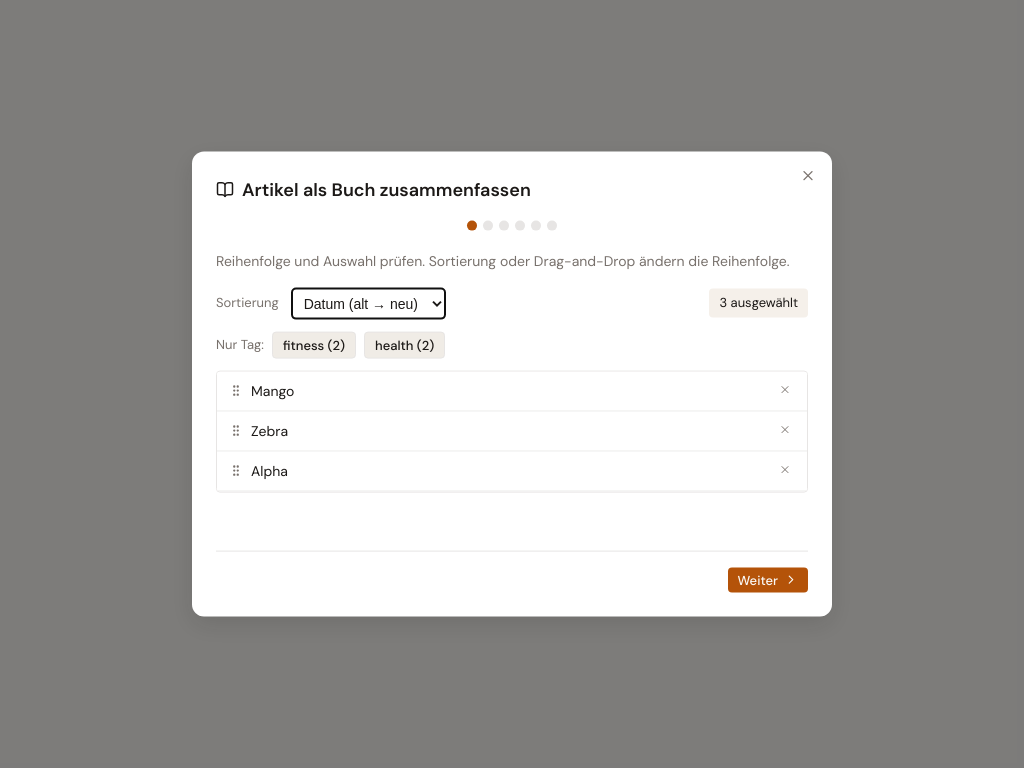
it: ConvertToBookWizard Add-to-Authors-DB (Bug 8 Phase 2) › checkbox visible (and checked) when typed name is new
Click the button with test id "convert-to-book-wizard-step-0-next" at (768, 580), box left=728, top=567, right=808, bottom=592
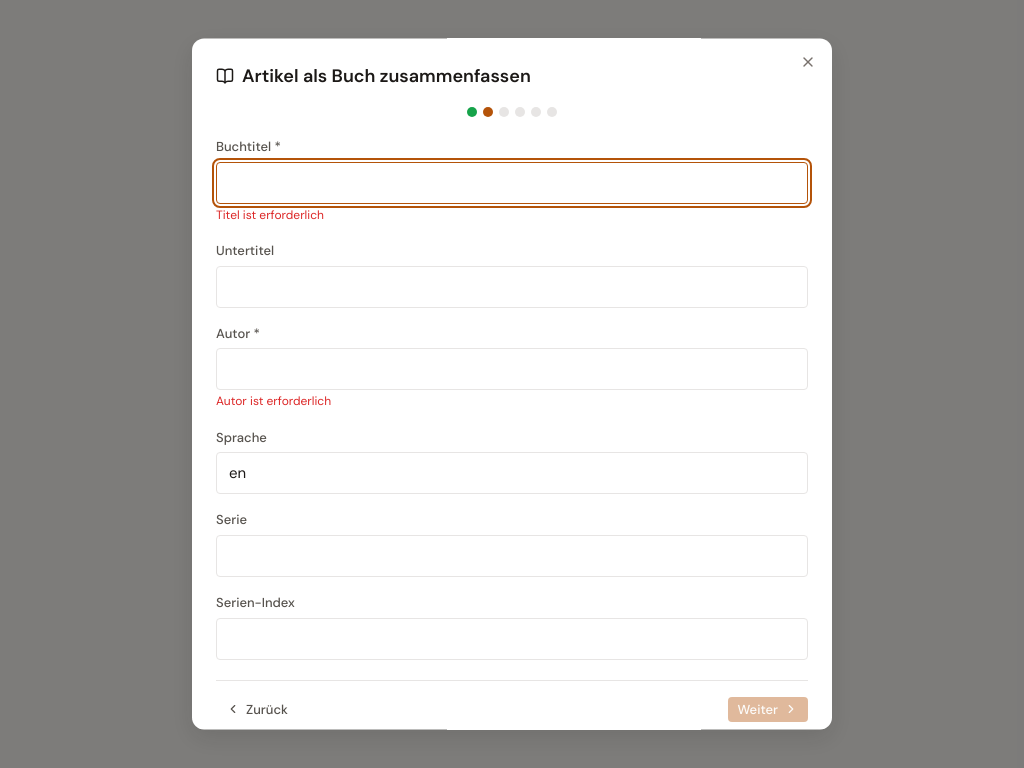
Type "Brand New Person" into the field with test id "convert-to-book-wizard-metadata-author" at (512, 370), box left=216, top=349, right=808, bottom=391
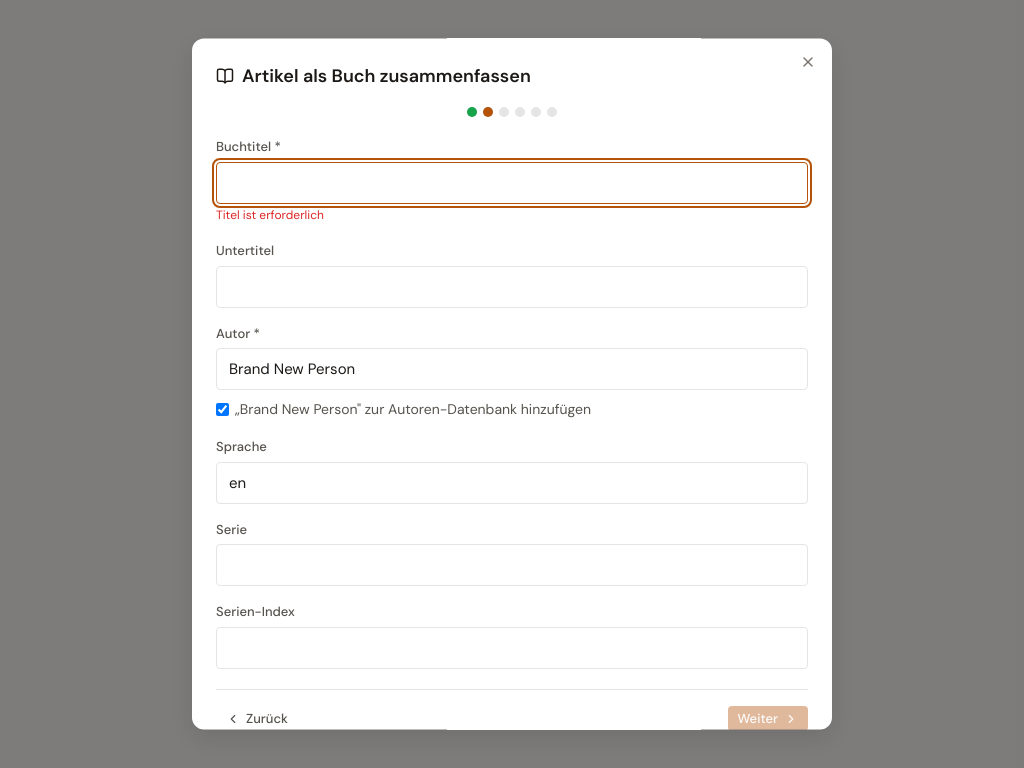
Check: the checkbox with test id "convert-to-book-wizard-add-to-authors-checkbox" is checked, box left=216, top=404, right=229, bottom=416
